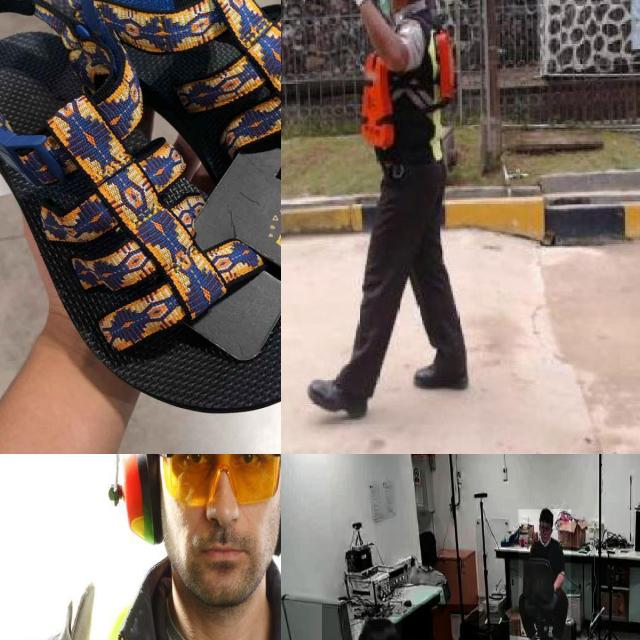Ear-protection: (109, 454, 168, 550)
Sandals: (0, 0, 281, 420)
boots: (304, 378, 370, 418), (412, 354, 472, 394)
face_nomask: (538, 521, 552, 542)
glasses: (160, 454, 281, 508), (540, 522, 552, 535)
head_nohelmet: (354, 617, 401, 640), (538, 506, 554, 520)
person: (291, 0, 487, 422), (0, 454, 281, 640), (518, 509, 571, 640)
shoes: (526, 634, 542, 640)
vest: (360, 16, 468, 170), (46, 574, 281, 640)
